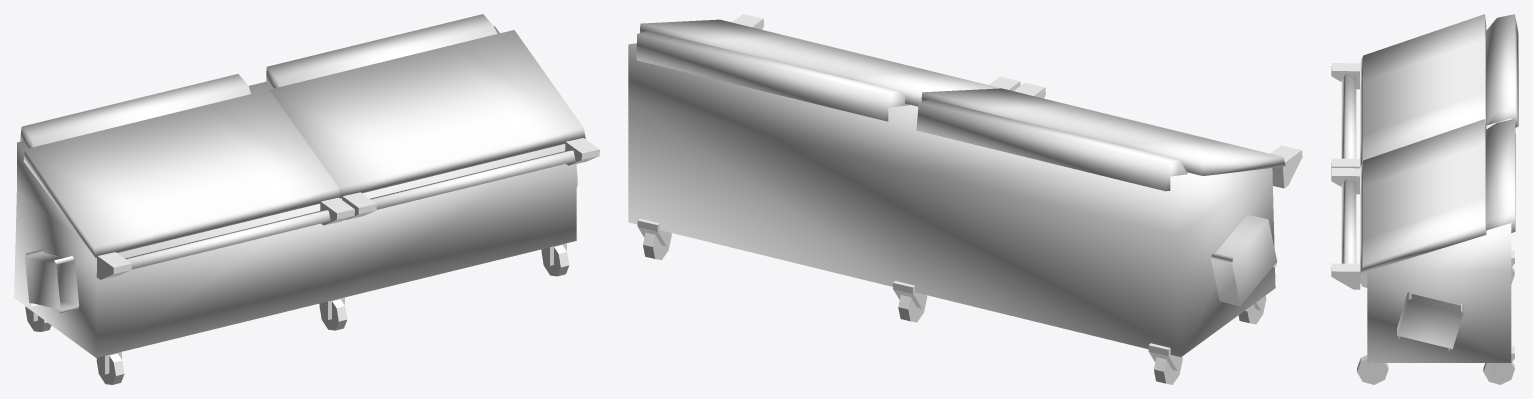
File: mateTrashcontainer.glb
3 views of the same model, side by side, from view 1: azimuth 30°, elevation 25°; view 2: azimuth 150°, elevation 25°; view 3: azimuth 270°, elevation 25° (orthographic). The views are drawn at different scales.
Visible parts, largest first — view 1: mate_Trash_container; view 2: mate_Trash_container; view 3: mate_Trash_container.
Part boxes in pixels (x1,y1,x2,y2): mate_Trash_container: [14, 14, 599, 384]; mate_Trash_container: [628, 14, 1302, 384]; mate_Trash_container: [1331, 14, 1518, 384].
Bounding box in the file's own units: 4.79 × 1.76 × 1.71.
3 materials, 3 textured.
